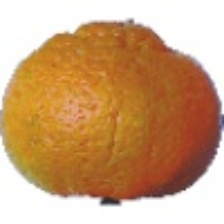tangerine: (49, 21, 197, 190)
